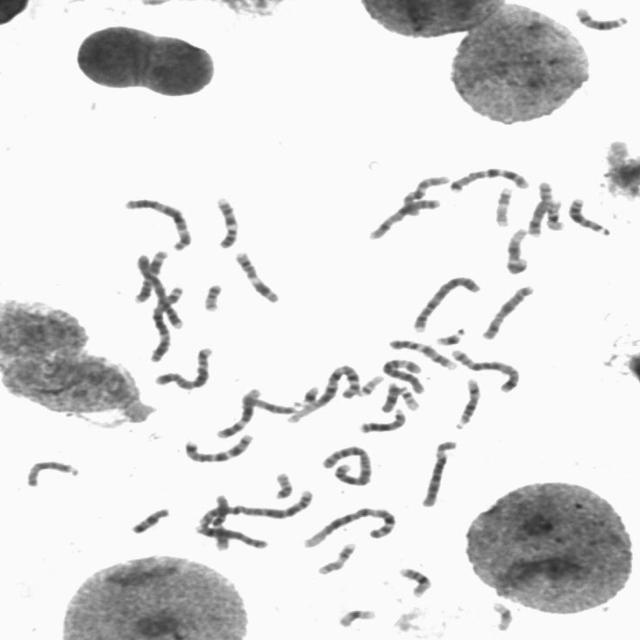A1: (282, 360, 363, 424), (297, 503, 400, 549)
A2: (195, 486, 316, 526), (317, 441, 375, 487)
A3: (118, 193, 195, 252), (144, 282, 187, 363)
B4: (408, 271, 483, 333), (130, 248, 186, 330)
B5: (446, 345, 523, 394), (150, 343, 215, 390)
C10: (398, 171, 452, 217), (209, 491, 232, 552)
C11: (230, 247, 282, 304), (129, 246, 170, 304)
C12: (211, 384, 264, 439), (501, 224, 531, 275)
C6: (416, 436, 459, 508), (377, 354, 428, 395)
C7: (179, 429, 257, 464), (446, 162, 532, 193)
C8: (189, 520, 271, 550), (522, 176, 556, 238)
C9: (385, 335, 458, 370), (211, 192, 241, 250)
D13: (564, 193, 612, 237), (354, 405, 409, 434)
D14: (451, 374, 484, 431), (570, 2, 630, 32)
D15: (20, 456, 81, 489), (239, 389, 301, 415)
E16: (394, 563, 434, 598), (542, 196, 566, 231)
E17: (313, 538, 359, 576), (491, 182, 515, 228)
E18: (126, 502, 173, 534), (375, 378, 402, 413)
F19: (333, 605, 379, 628), (486, 597, 516, 632)
F20: (198, 279, 225, 312), (269, 468, 296, 500)
G21: (294, 381, 322, 408), (432, 326, 468, 346)
G22: (353, 370, 386, 398), (393, 382, 422, 411)
X: (364, 194, 444, 241), (476, 281, 537, 341)
